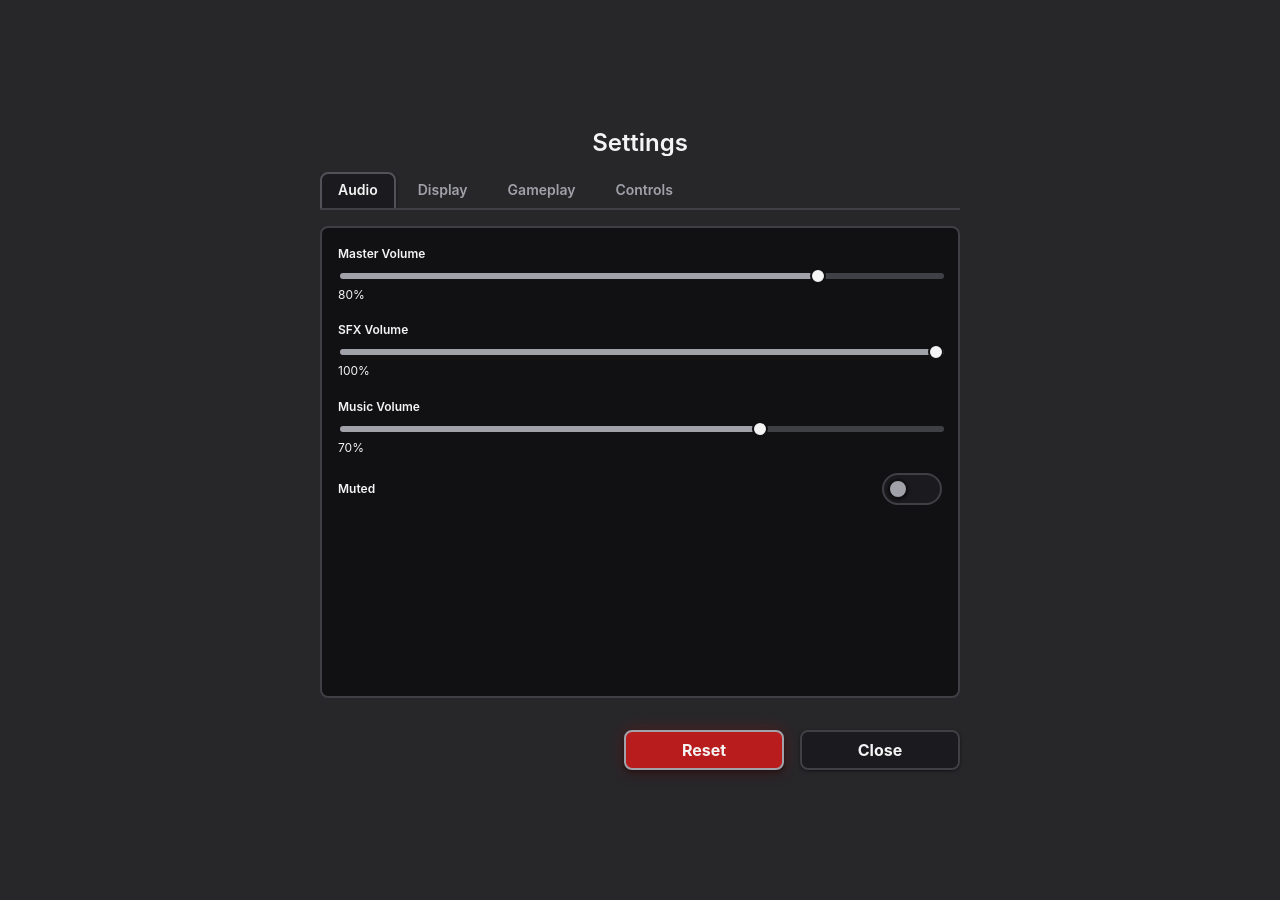
Scenario: SettingsPage — tabbed definition rendering › renders Display fields after selecting the Display tab
Expected: the tab "Audio" is shown, left=320, top=172, right=396, bottom=208
Click the tab "Display".
click(443, 190)  # box left=400, top=172, right=486, bottom=208
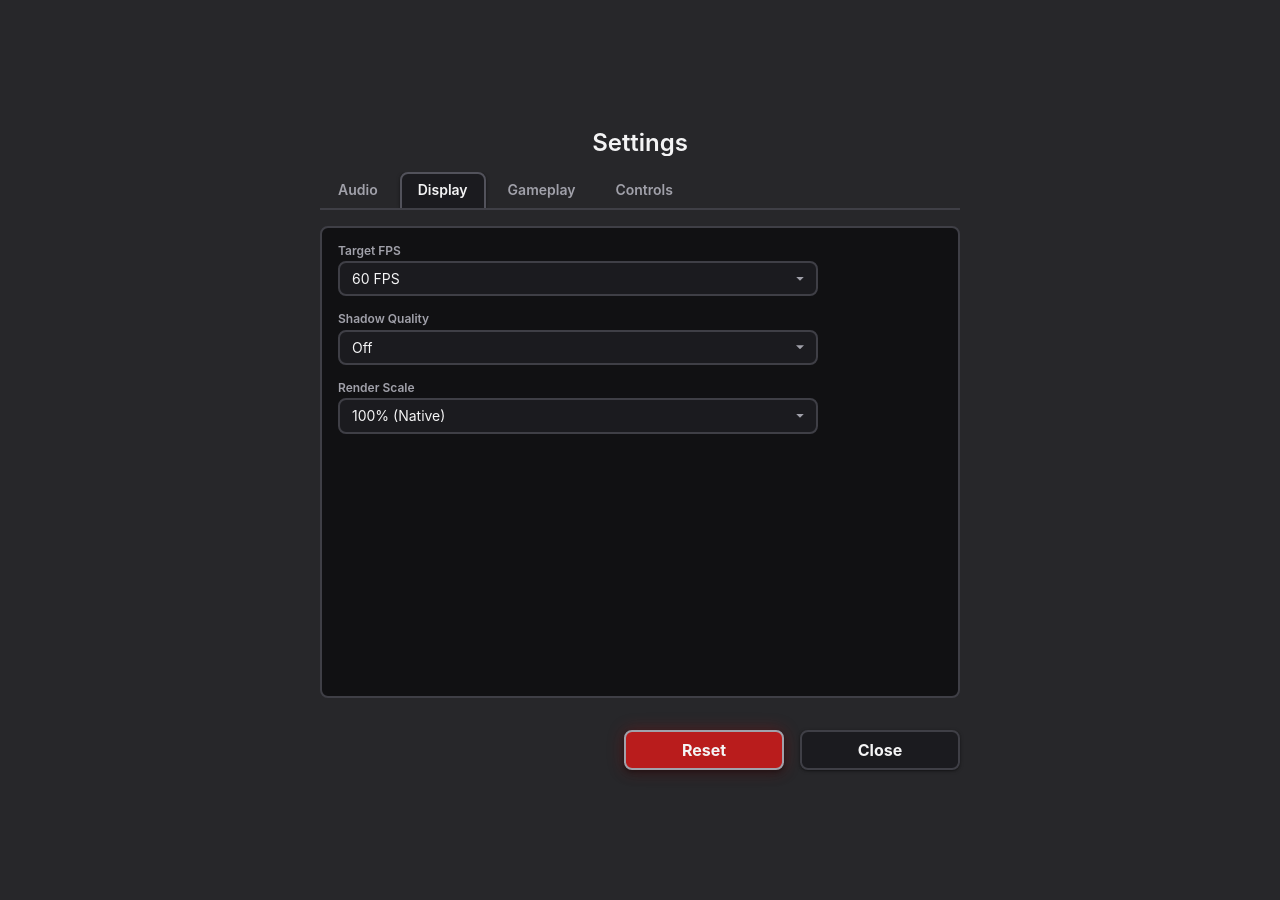
Result: the dropdown labelled "Target FPS" is shown at left=340, top=263, right=816, bottom=294
Result: the dropdown labelled "Shadow Quality" is shown at left=340, top=332, right=816, bottom=363
Result: the dropdown labelled "Render Scale" is shown at left=340, top=400, right=816, bottom=432
